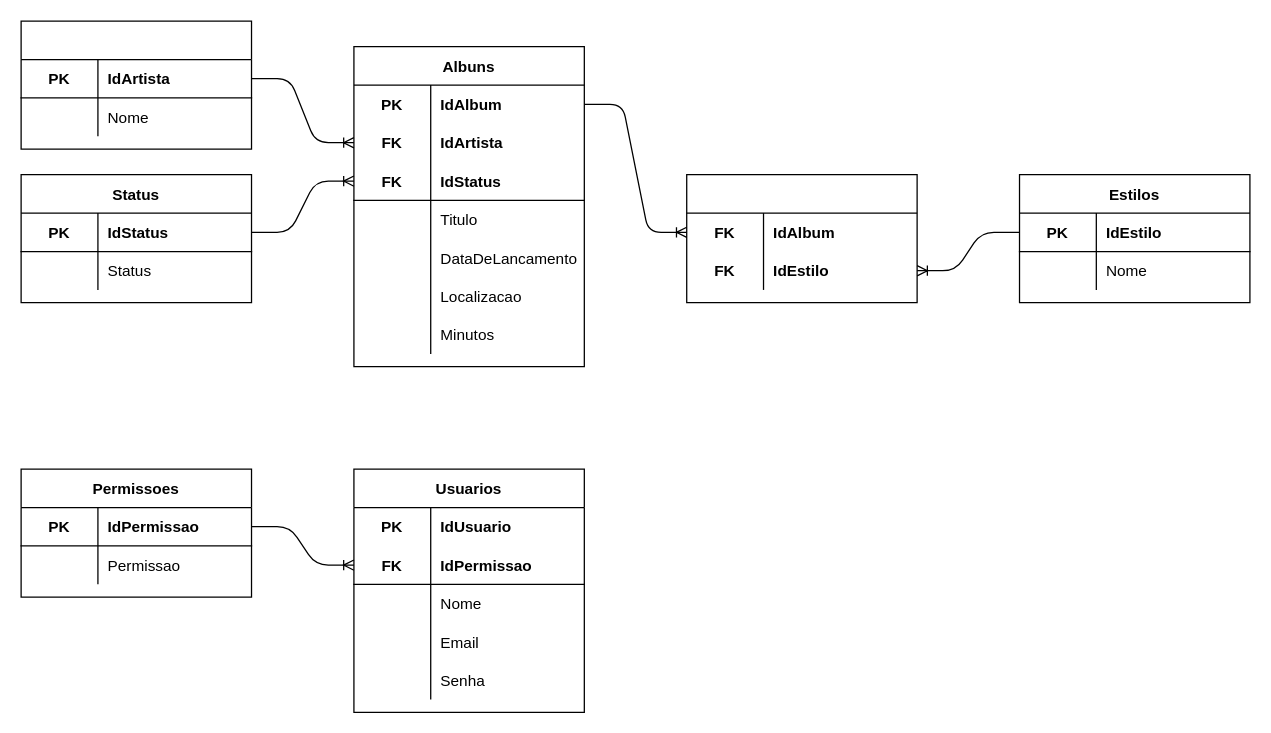
This 1271x733 diagram has some shape labels left out. Each missing label, with the box of its shape:
Artistas: (20, 20, 252, 149)
EstilosVinculados: (685, 173, 917, 303)
